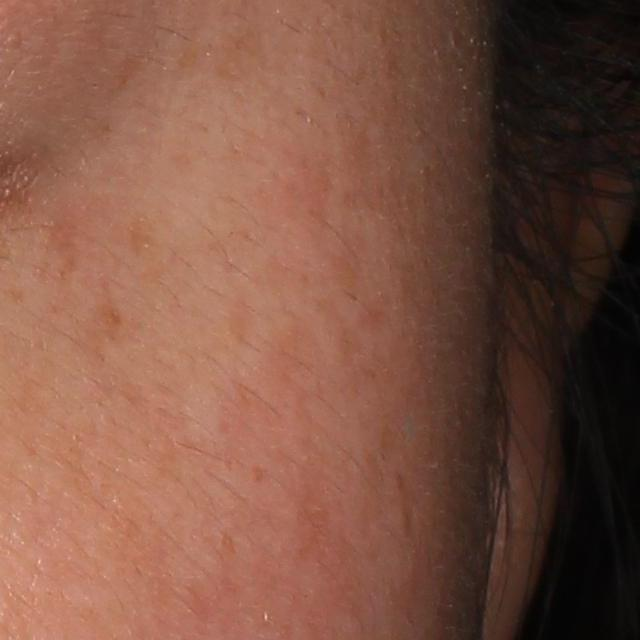melasma: (214, 22, 261, 83), (83, 296, 124, 363), (126, 211, 164, 263)
